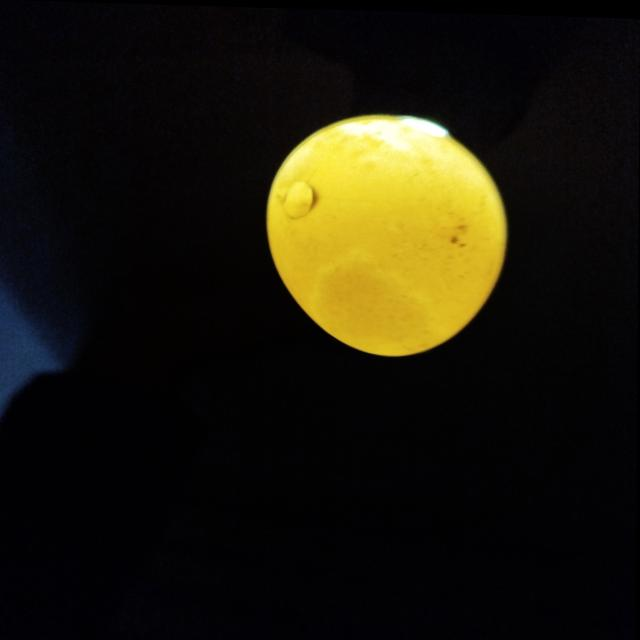Camara de Ar: (312, 255, 443, 354)
Rachadura: (283, 179, 315, 217)
